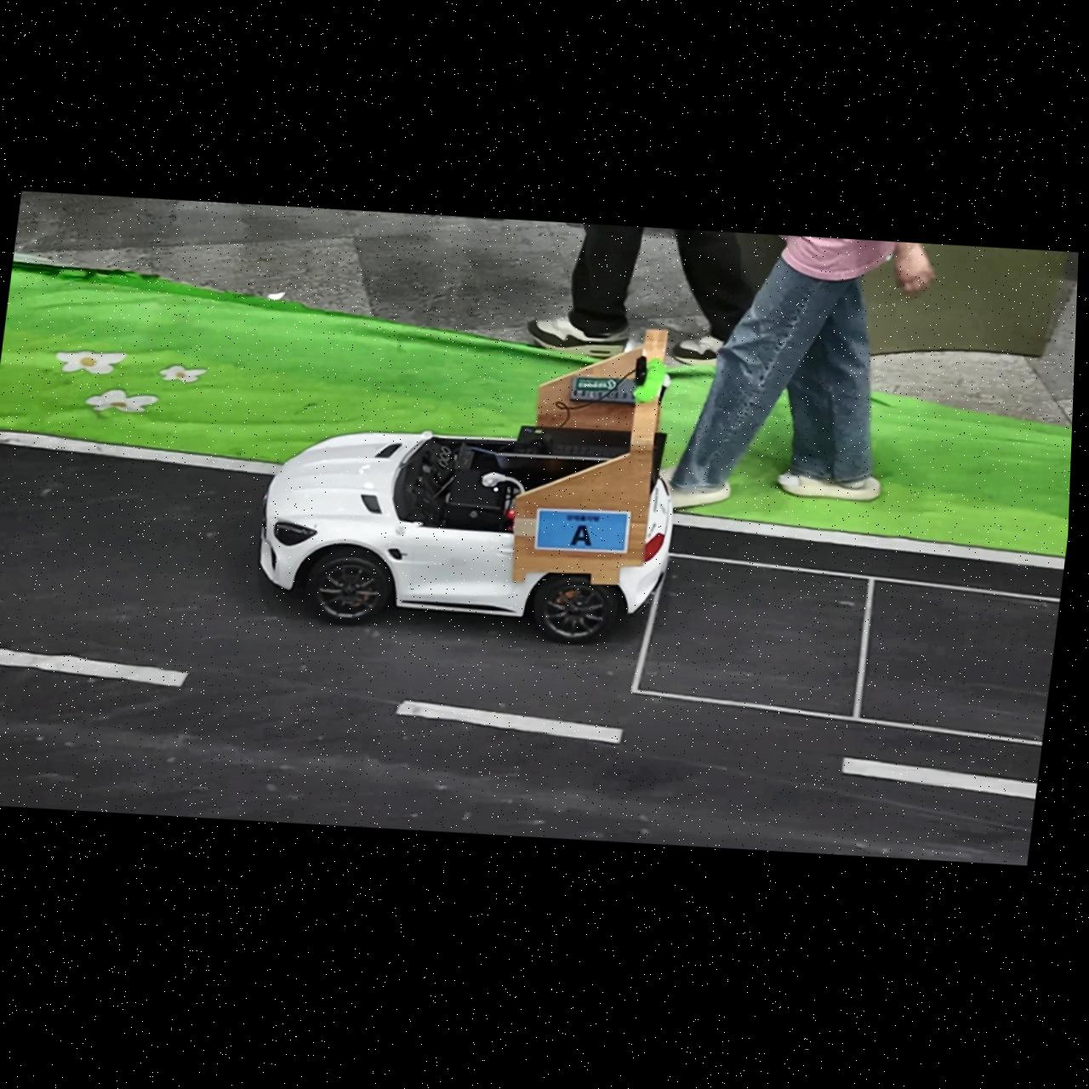broken_line: (396, 700, 623, 744), (841, 758, 1037, 799), (0, 648, 188, 687)
